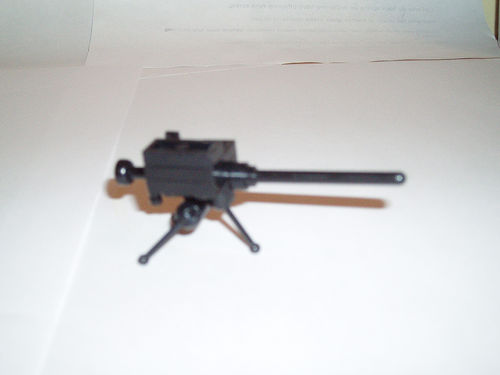rifle: (101, 112, 416, 273)
